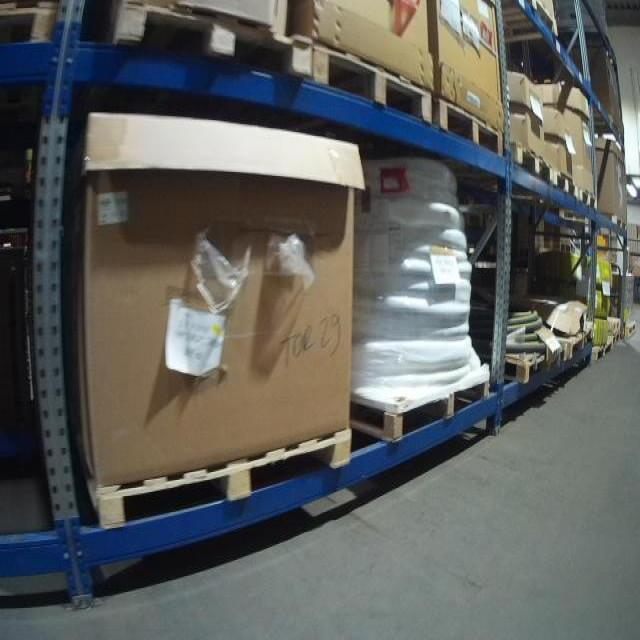pallet: (88, 424, 354, 531), (108, 1, 316, 82), (311, 41, 434, 128), (352, 375, 490, 444), (434, 95, 505, 158), (500, 0, 559, 45), (503, 354, 561, 386), (510, 143, 554, 184), (563, 326, 592, 360), (553, 170, 579, 199), (602, 212, 628, 232), (593, 338, 612, 364), (579, 189, 598, 209), (625, 319, 637, 339)
